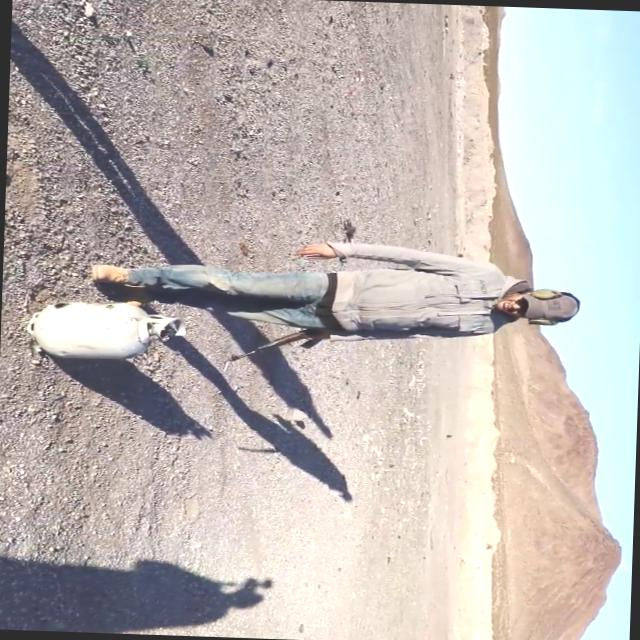long weapon: (218, 320, 336, 370)
